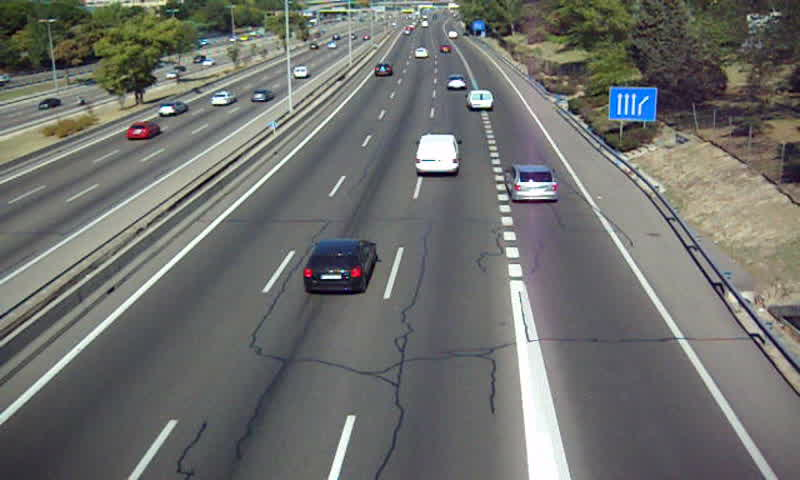car: (301, 236, 376, 294), (503, 163, 557, 200), (446, 75, 468, 92), (374, 62, 393, 77), (412, 46, 430, 57)
van: (415, 134, 460, 177), (465, 89, 494, 110)
